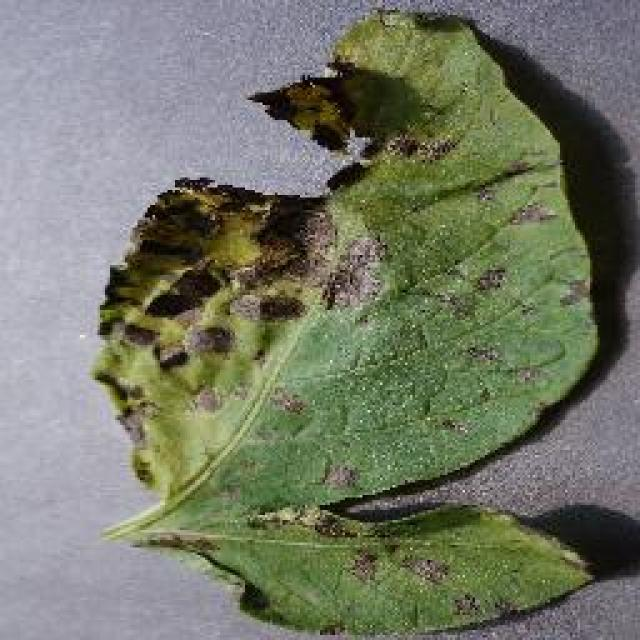early_blight: (90, 5, 610, 637)
